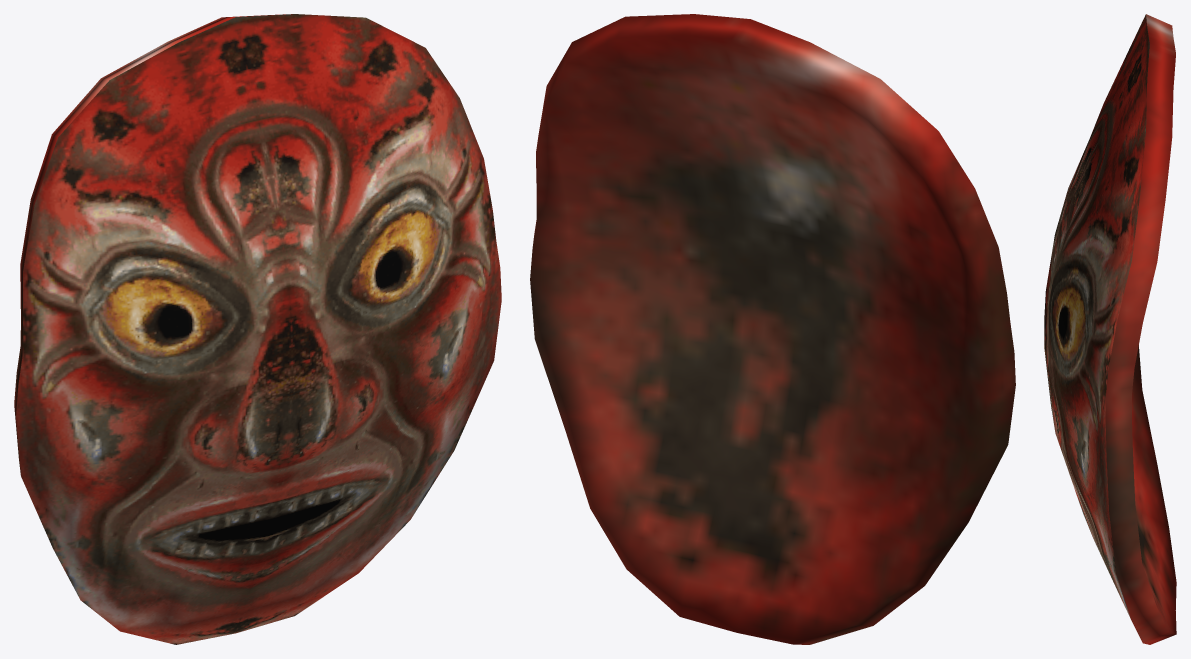
File: mask5.fbx
3 renders of one model, left to right at view 1: azimuth 30°, elevation 25°; view 2: azimuth 150°, elevation 25°; view 3: azimuth 270°, elevation 25°, orthographic. The views are drawn at different scales.
Parts seen in each view (by area): view 1: mask5; view 2: mask5; view 3: mask5.
Part boxes in pixels (bbox=[...]): mask5: bbox=[14, 14, 501, 644]; mask5: bbox=[530, 14, 1015, 644]; mask5: bbox=[1044, 14, 1176, 644].
Bounding box in the file's own units: 13.62 × 16.51 × 3.43.
1 material, 1 textured.
